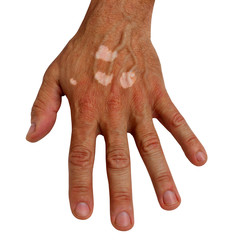vitiligo: (71, 33, 154, 119)
